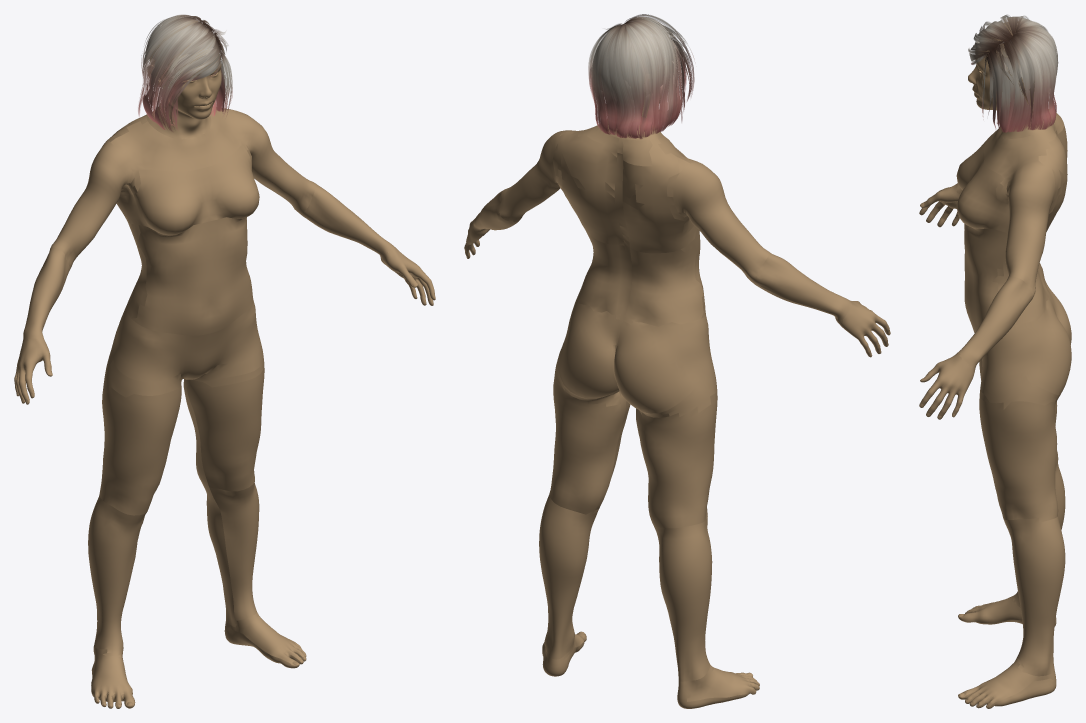
File: human_model.glb
The picture shows the model from 3 angles, left to right: view 1: azimuth 30°, elevation 25°; view 2: azimuth 150°, elevation 25°; view 3: azimuth 270°, elevation 25°; orthographic projection. The views are drawn at different scales.
Visible parts, largest first — view 1: Dui, Chan, Bung, Mong, Nguc, Tay tren, Hair, HG_Body, Vai, Tay duoi, Head, Lung duoi; view 2: Chan, Dui, Mong, Hair, Lung tren, Lung duoi, Tay tren, HG_Body, Tay duoi, Vai; view 3: Chan, Dui, Hair, Mong, HG_Body, Tay tren, Bung, Nguc, Tay duoi, Vai, Head, Lung tren (+1 smaller).
Part boxes in pixels (<box>): Dui: <box>99,365,264,515</box>; Chan: <box>88,480,306,708</box>; Bung: <box>132,217,253,335</box>; Mong: <box>103,300,264,397</box>; Nguc: <box>116,145,259,235</box>; Tay tren: <box>51,111,315,268</box>; Hair: <box>138,14,232,131</box>; HG_Body: <box>14,19,435,708</box>; Vai: <box>111,107,248,171</box>; Tay duoi: <box>23,184,395,340</box>; Head: <box>146,21,221,139</box>; Lung duoi: <box>126,246,147,318</box>; Chan: <box>539,495,759,708</box>; Dui: <box>549,373,717,528</box>; Mong: <box>555,296,717,416</box>; Hair: <box>588,14,694,139</box>; Lung tren: <box>557,131,696,253</box>; Lung duoi: <box>577,231,703,326</box>; Tay tren: <box>499,130,769,279</box>; HG_Body: <box>464,95,890,701</box>; Tay duoi: <box>472,190,852,323</box>; Vai: <box>552,125,696,209</box>; Chan: <box>958,459,1065,708</box>; Dui: <box>979,359,1058,522</box>; Hair: <box>968,14,1058,132</box>; Mong: <box>970,282,1071,409</box>; HG_Body: <box>919,24,1060,708</box>; Tay tren: <box>1005,165,1055,291</box>; Bung: <box>964,224,1015,329</box>; Nguc: <box>956,136,1009,232</box>; Tay duoi: <box>955,183,1035,369</box>; Vai: <box>984,110,1067,200</box>; Head: <box>968,22,1048,138</box>; Lung tren: <box>1038,109,1067,231</box>.
Size of the model in its own units: 1.16 by 1.76 by 0.3793.
2 materials, 1 textured.
